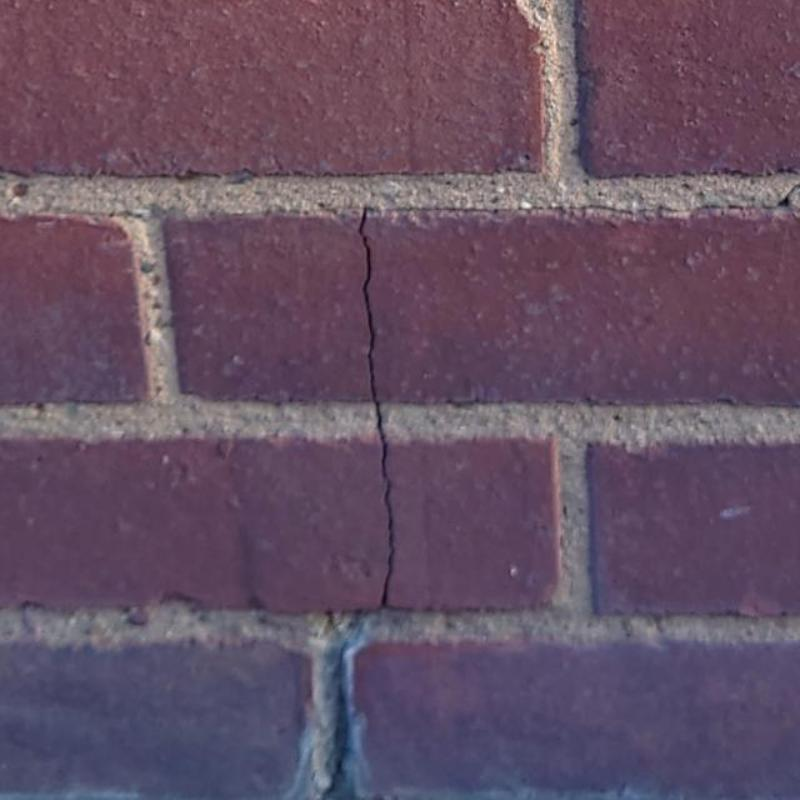pothole: (366, 182, 799, 214), (357, 206, 389, 479), (321, 625, 361, 799), (375, 479, 397, 608)
